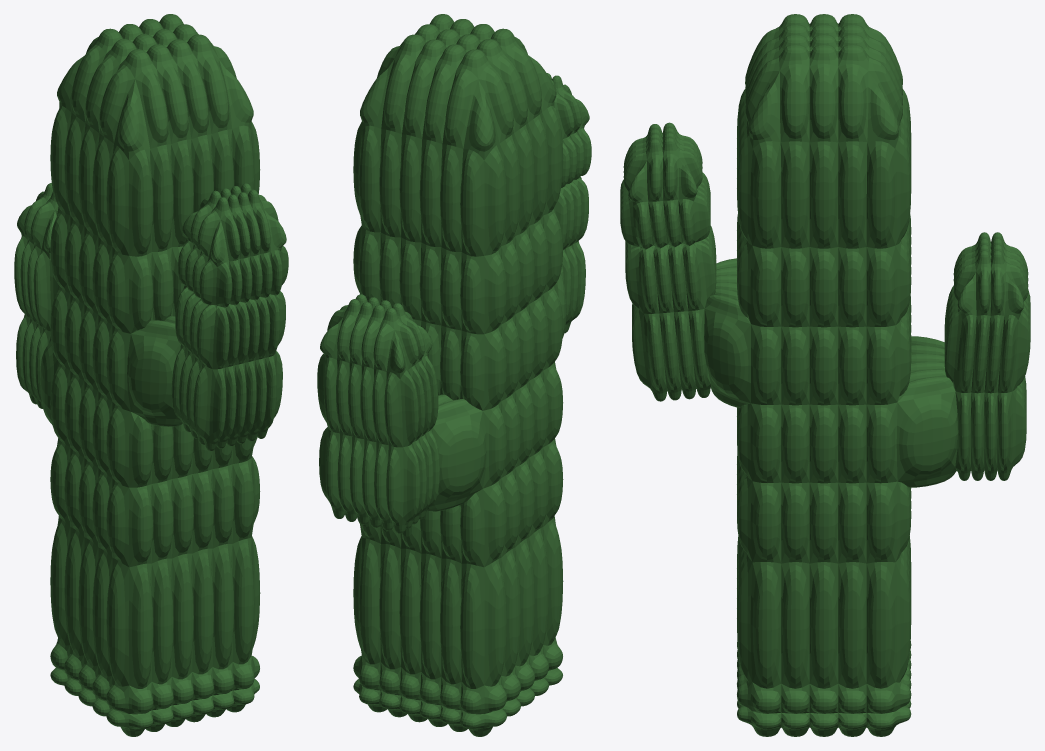
File: cactus.fbx
The picture shows the model from 3 angles, left to right: view 1: azimuth 30°, elevation 25°; view 2: azimuth 150°, elevation 25°; view 3: azimuth 270°, elevation 25°; orthographic projection.
Visible parts, largest first — view 1: Cactus; view 2: Cactus; view 3: Cactus.
Boxes of the visible parts, bbox=[...] form: Cactus: bbox=[14, 14, 288, 736]; Cactus: bbox=[317, 14, 591, 736]; Cactus: bbox=[620, 14, 1030, 736].
Size of the model in its own units: 245 by 1054 by 577.
